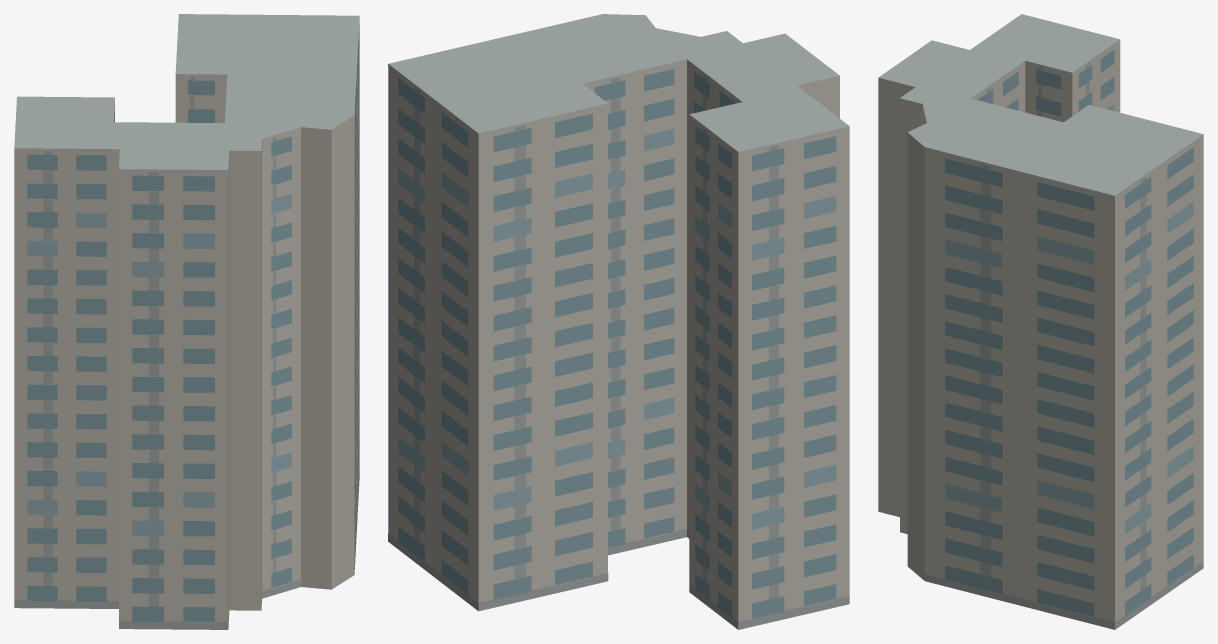
The model's file is residential-7bdd56a6-08ab-41b0-a89d-751f5d4efd53.glb.
3 renders of one model, left to right at view 1: azimuth 30°, elevation 25°; view 2: azimuth 150°, elevation 25°; view 3: azimuth 270°, elevation 25°, orthographic. The views are drawn at different scales.
Parts seen in each view (by area): view 1: residential-7bdd56a6-08ab-41b0-a89d-751f5d4efd53.tmp; view 2: residential-7bdd56a6-08ab-41b0-a89d-751f5d4efd53.tmp; view 3: residential-7bdd56a6-08ab-41b0-a89d-751f5d4efd53.tmp.
Boxes of the visible parts, <box> form: residential-7bdd56a6-08ab-41b0-a89d-751f5d4efd53.tmp: <box>14,14,359,629</box>; residential-7bdd56a6-08ab-41b0-a89d-751f5d4efd53.tmp: <box>388,14,849,629</box>; residential-7bdd56a6-08ab-41b0-a89d-751f5d4efd53.tmp: <box>878,14,1203,629</box>.
Bounding box in the file's own units: 41.34 × 46 × 31.26.
